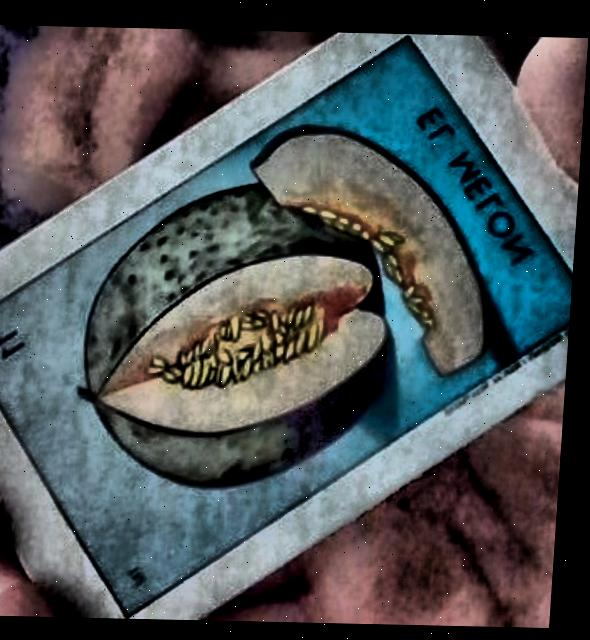El Melon: (0, 36, 576, 614)
